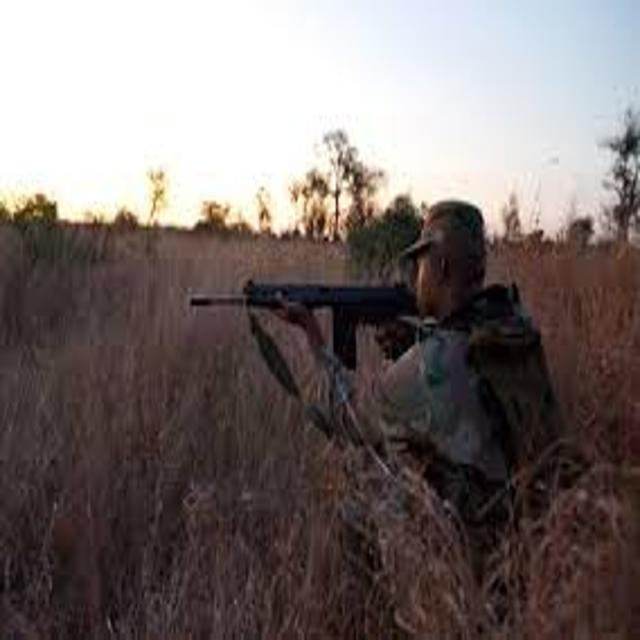gun: (172, 243, 455, 404)
poacher: (241, 181, 614, 595)
